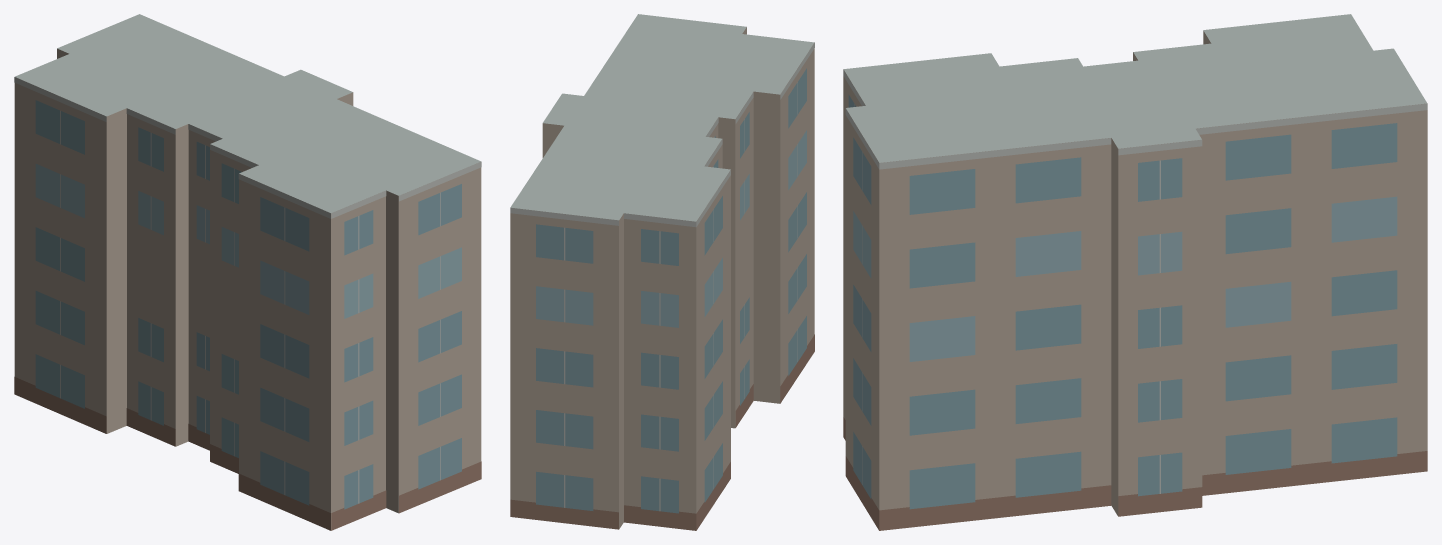
File: survey-upis-33019648.glb
3 renders of one model, left to right at view 1: azimuth 30°, elevation 25°; view 2: azimuth 150°, elevation 25°; view 3: azimuth 270°, elevation 25°, orthographic. The views are drawn at different scales.
Visible parts, largest first — view 1: survey-upis-33019648.tmp; view 2: survey-upis-33019648.tmp; view 3: survey-upis-33019648.tmp.
Part boxes in pixels (x1=…): survey-upis-33019648.tmp: x1=14, y1=14, x2=481, y2=530; survey-upis-33019648.tmp: x1=510, y1=14, x2=814, y2=530; survey-upis-33019648.tmp: x1=843, y1=14, x2=1427, y2=530.
Size of the model in its own units: 11.73 by 13.5 by 19.43.
